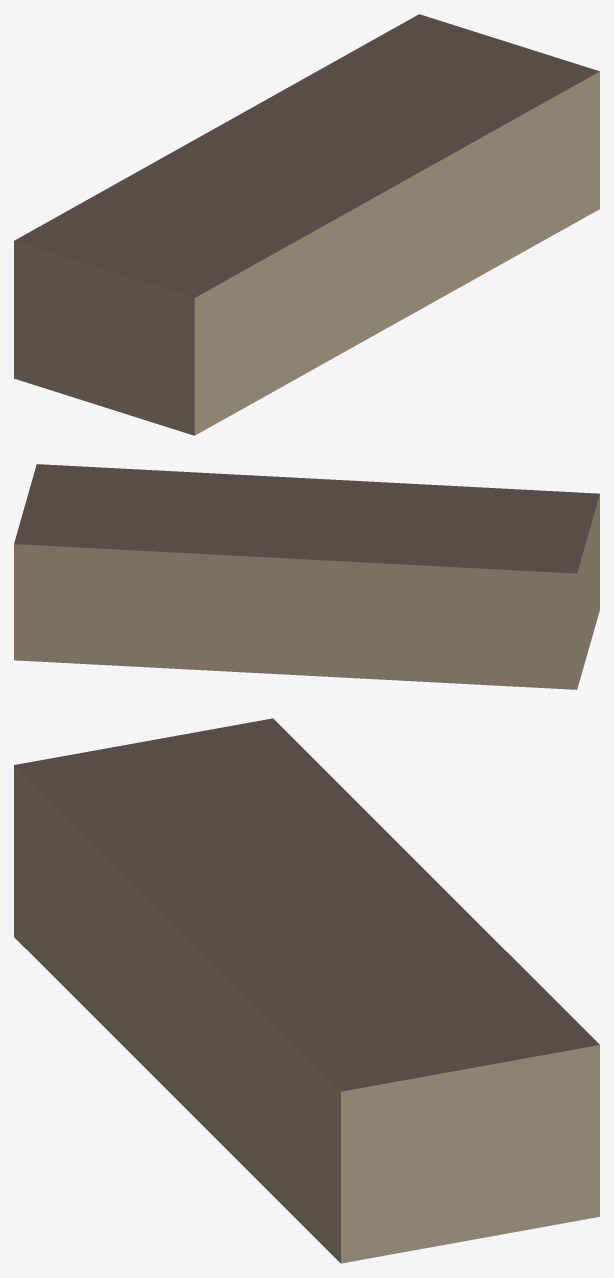
3 renders of one model, top to bottom at view 1: azimuth 30°, elevation 25°; view 2: azimuth 150°, elevation 25°; view 3: azimuth 270°, elevation 25°, orthographic. The views are drawn at different scales.
Parts seen in each view (by area): view 1: HP-w859447925; view 2: HP-w859447925; view 3: HP-w859447925.
Part boxes in pixels (left/top/right/bottom): HP-w859447925: left=14, top=14, right=599, bottom=435; HP-w859447925: left=14, top=464, right=599, bottom=689; HP-w859447925: left=14, top=718, right=599, bottom=1263.
Size of the model in its own units: 41.93 by 9 by 27.81.
